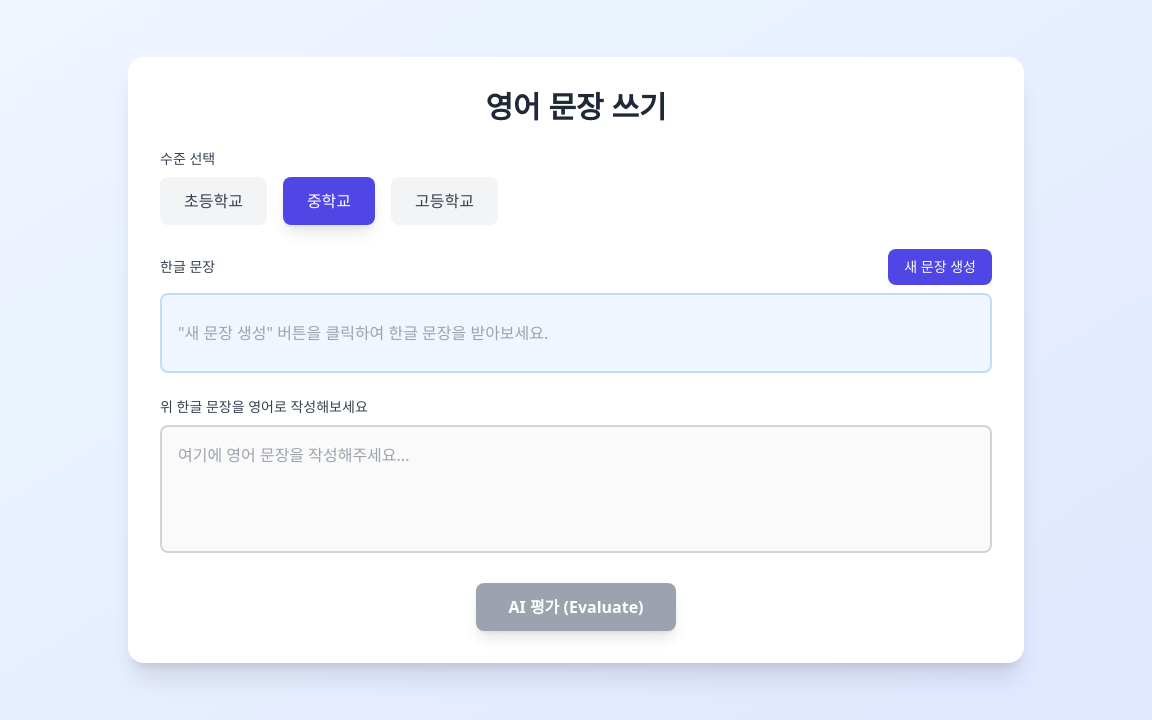
SentenceWritingPage › 한글 문장 생성 › 문장 생성 실패 시 에러 메시지가 표시된다
Click the button "새 문장 생성": (940, 267) [888, 249, 992, 285]
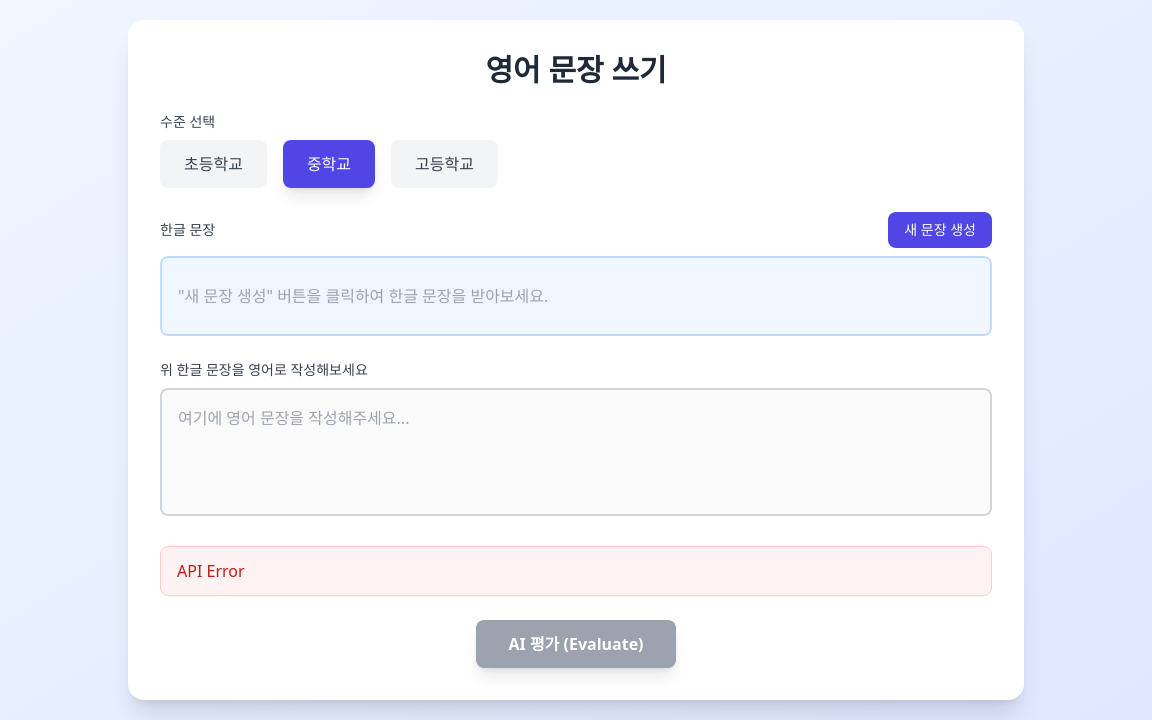
Now the text "API Error" is shown, box [160, 546, 992, 596]
